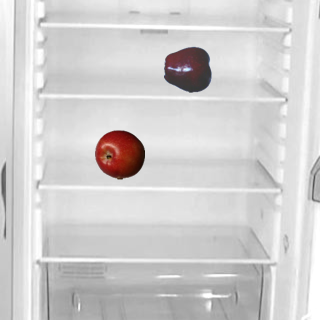Apple Braeburn: (94, 129, 144, 179)
Apple Red Delicious: (163, 44, 213, 94)
